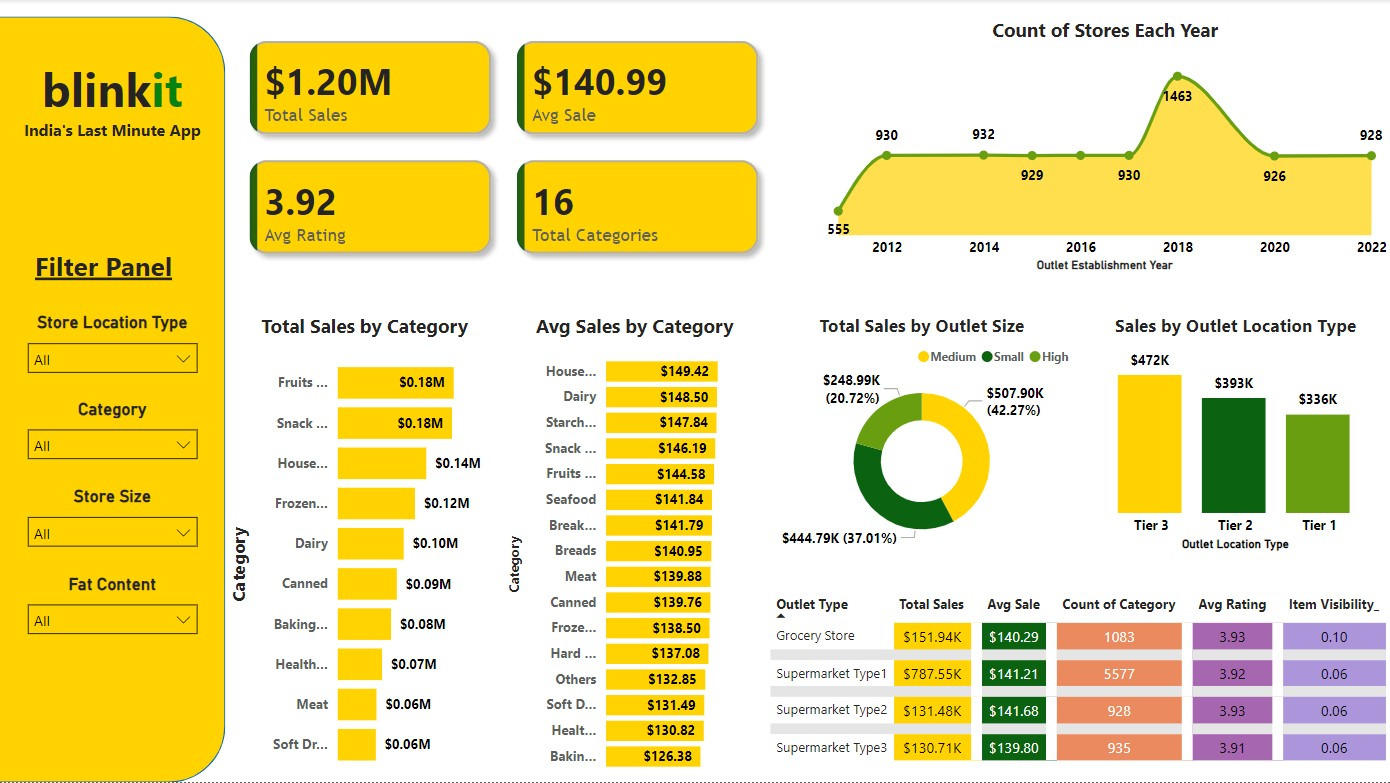

The dashboard page shown, as its layout file describes it:
{"tool":"powerbi","page":{"name":"Page 1","canvas":[1280,720],"ordinal":0},"visuals":[{"type":"cardVisual","fields":{"Data":["Blinkit.Total Sales","Blinkit.Average Sale","Blinkit.Average Rating","Blinkit.Total Categories"]},"box":[208,16,512,240],"z":0},{"type":"shape","box":[16,224,176,304],"z":1000},{"type":"columnChart","title":"Sales by Outlet Location Type","fields":{"Category":["Blinkit.Outlet Location Type"],"Y":["Blinkit.Total Sales"]},"box":[992,288,288,224],"z":3000},{"type":"donutChart","fields":{"Category":["Blinkit.Outlet Size"],"Y":["Blinkit.Total Sales"]},"box":[704,288,288,224],"z":4000},{"type":"areaChart","title":"Count of Stores Each Year","fields":{"Category":["Blinkit.Outlet Establishment Year"],"Y":["CountNonNull(Blinkit.Outlet Identifier)"]},"box":[752,16,528,240],"z":5000},{"type":"barChart","title":"Total Sales by Category","fields":{"Category":["Blinkit.Category"],"Y":["Blinkit.Total Sales"]},"box":[208,288,256,432],"z":6000},{"type":"shape","box":[0,16,208,704],"z":7000},{"type":"textbox","box":[16,48,176,112],"z":8000},{"type":"pivotTable","fields":{"Rows":["Blinkit.Outlet Type"],"Values":["Blinkit.Total Sales","Blinkit.Average Sale","CountNonNull(Blinkit.Category)","Blinkit.Average Rating","Blinkit.Average Item Visiblity"]},"box":[704,544,576,176],"z":9000},{"type":"slicer","title":"Store Location Type","fields":{"Values":["Blinkit.Outlet Location Type"]},"box":[16,288,176,64],"z":10000},{"type":"slicer","title":"Category","fields":{"Values":["Blinkit.Category"]},"box":[16,368,176,64],"z":11000},{"type":"slicer","title":"Store Size","fields":{"Values":["Blinkit.Outlet Size"]},"box":[16,448,176,64],"z":12000},{"type":"textbox","box":[16,224,160,48],"z":13000},{"type":"slicer","title":"Fat Content","fields":{"Values":["Blinkit.Item Fat Content"]},"box":[16,528,176,64],"z":14000},{"type":"barChart","title":"Avg Sales by Category","fields":{"Category":["Blinkit.Category"],"Y":["Blinkit.Average Sale"]},"box":[464,288,240,432],"z":14001}]}

Visuals, with their boxes in screenshot pixels (x1, y1, x2, y2), scaled from the page's 1280x720 canvas onto the 1390x783 screenshot:
cardVisual - Blinkit.Total Sales x Blinkit.Average Sale: pyautogui.locateOnScreen(226, 17, 782, 278)
shape: pyautogui.locateOnScreen(17, 244, 208, 574)
"Sales by Outlet Location Type" columnChart: pyautogui.locateOnScreen(1077, 313, 1389, 557)
donutChart - Blinkit.Outlet Size x Blinkit.Total Sales: pyautogui.locateOnScreen(764, 313, 1077, 557)
"Count of Stores Each Year" areaChart: pyautogui.locateOnScreen(817, 17, 1389, 278)
"Total Sales by Category" barChart: pyautogui.locateOnScreen(226, 313, 504, 782)
shape: pyautogui.locateOnScreen(0, 17, 226, 782)
textbox: pyautogui.locateOnScreen(17, 52, 208, 174)
pivotTable - Blinkit.Outlet Type x Blinkit.Total Sales: pyautogui.locateOnScreen(764, 592, 1389, 782)
"Store Location Type" slicer: pyautogui.locateOnScreen(17, 313, 208, 383)
"Category" slicer: pyautogui.locateOnScreen(17, 400, 208, 470)
"Store Size" slicer: pyautogui.locateOnScreen(17, 487, 208, 557)
textbox: pyautogui.locateOnScreen(17, 244, 191, 296)
"Fat Content" slicer: pyautogui.locateOnScreen(17, 574, 208, 644)
"Avg Sales by Category" barChart: pyautogui.locateOnScreen(504, 313, 764, 782)
